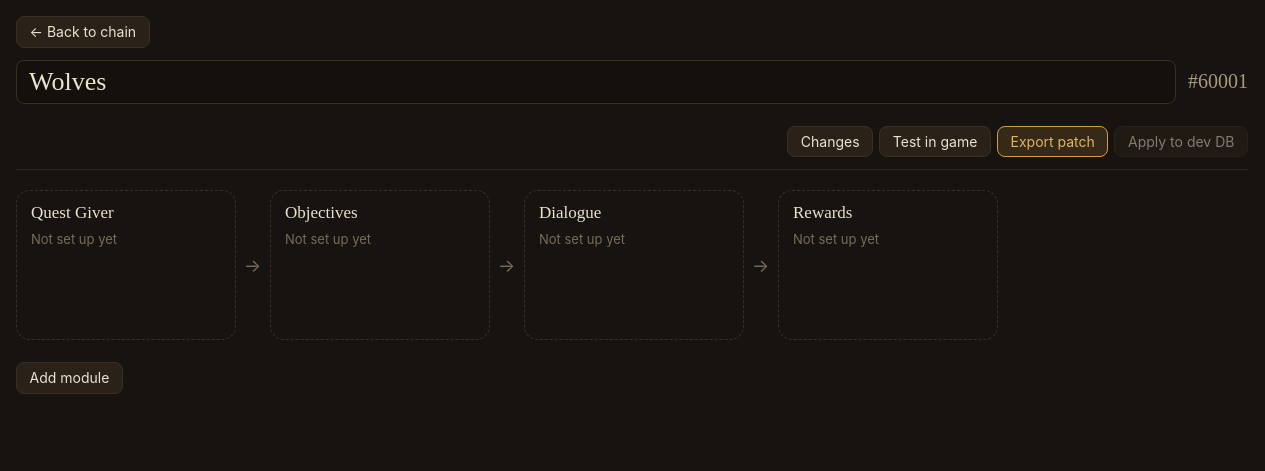
Test: Export › saves the draft, exports, and shows the written path and any warnings
This screenshot has width=1265, height=471.
Click the button "Export patch" at point(1053, 141), box left=997, top=126, right=1108, bottom=157
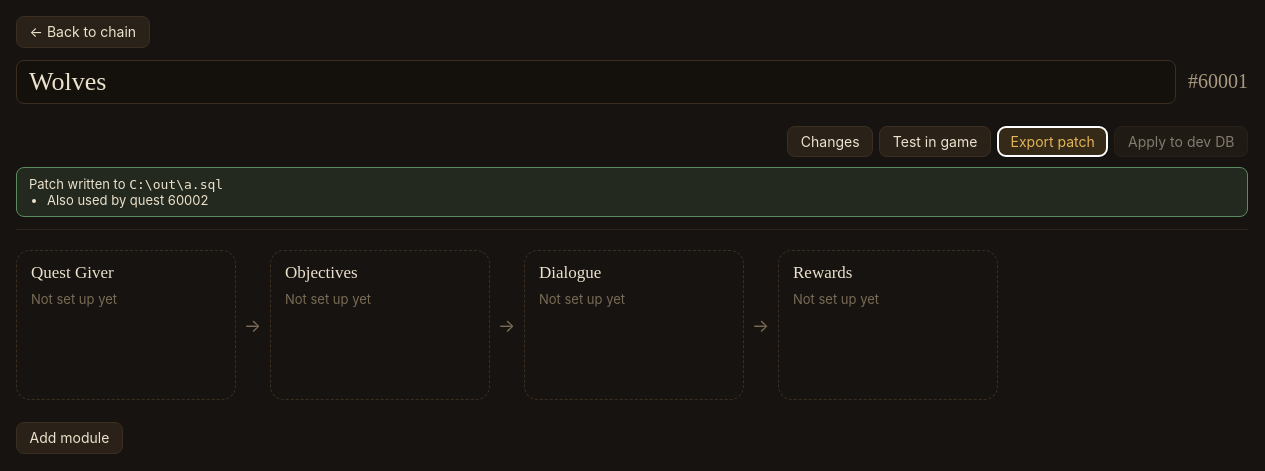
Expected: the text "C:\\out\\a.sql" is shown, left=129, top=177, right=223, bottom=192
Expected: the list item "Also used by quest 60002" is shown, left=47, top=192, right=208, bottom=208
